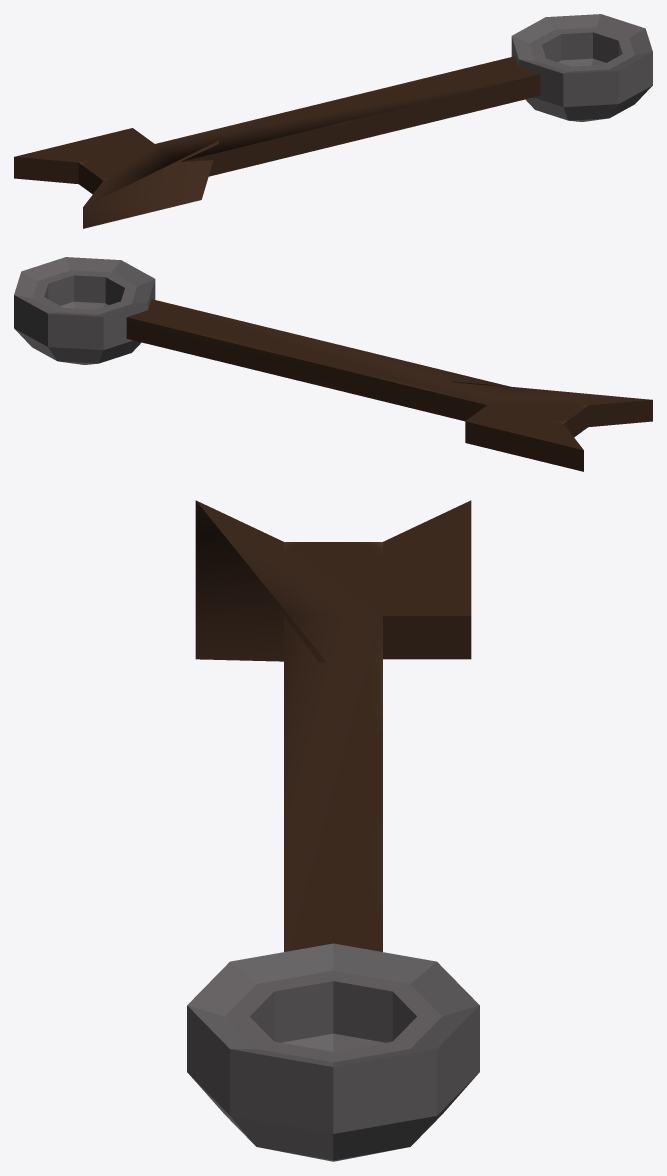
Rendered from catapulta.obj.
3 renders of one model, top to bottom at view 1: azimuth 30°, elevation 25°; view 2: azimuth 150°, elevation 25°; view 3: azimuth 270°, elevation 25°, orthographic. The views are drawn at different scales.
Visible parts, largest first — view 1: catapult.001_Itemandenemy; view 2: catapult.001_Itemandenemy; view 3: catapult.001_Itemandenemy.
Part boxes in pixels (x1,y1,x2,y2): catapult.001_Itemandenemy: [14, 14, 652, 228]; catapult.001_Itemandenemy: [14, 257, 652, 471]; catapult.001_Itemandenemy: [187, 500, 479, 1161].
Size of the model in its own units: 9.74 by 1.22 by 2.07.
1 material, 1 textured.
